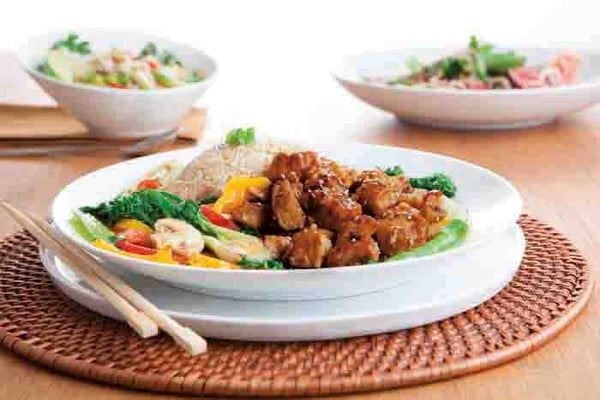sushi: (333, 34, 599, 129), (11, 27, 220, 141)
